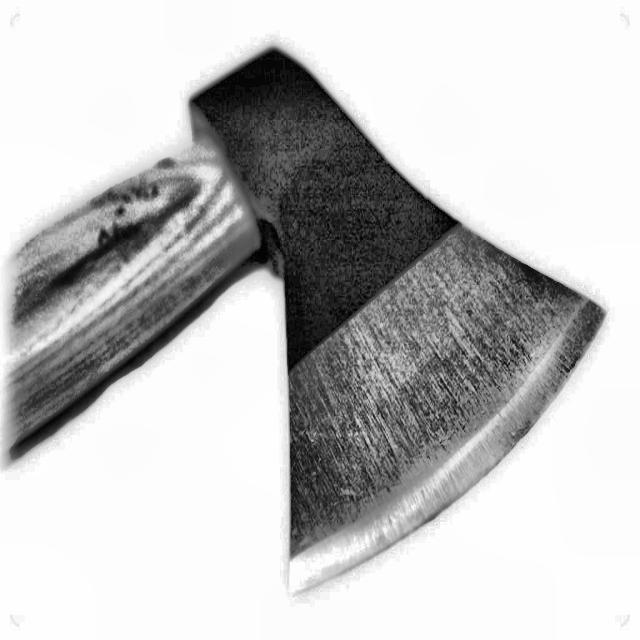kapak: (0, 29, 615, 603)
